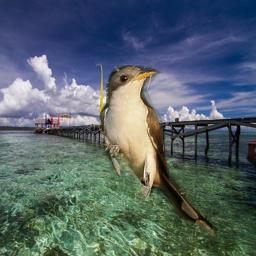Cuckoo: (99, 65, 220, 240)
